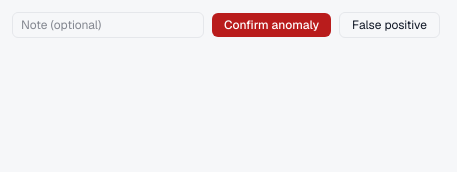
Scenario: anomalies › records a verdict with its note and refreshes the list
The image size is (457, 172).
Type " seasonal bulk order " into the field named "Review note" at (108, 25), box [12,12,204,38]
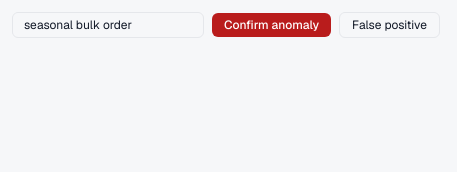
Click the button "False positive" at (390, 25), box [339,12,440,38]
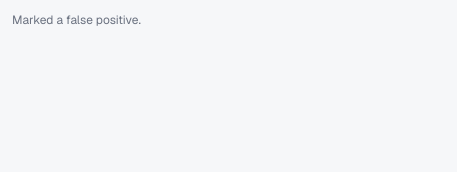
Result: the text "Marked a false positive." is shown at [12,12,141,28]
